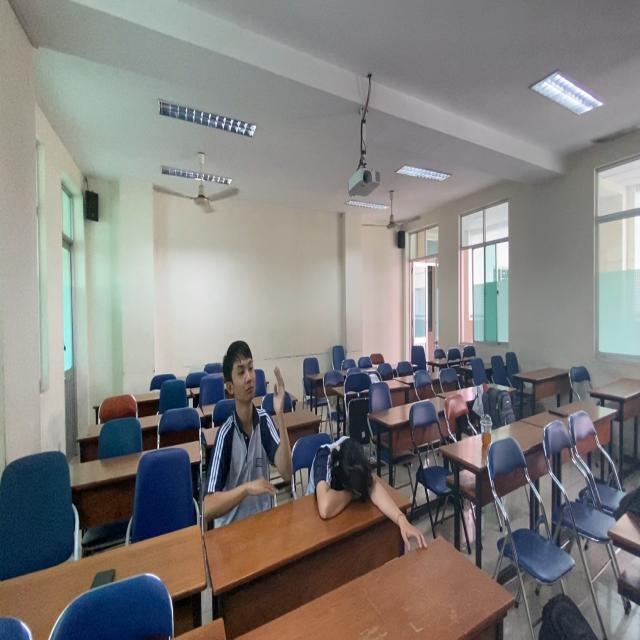raise_hand: (203, 341, 294, 507)
sleep: (303, 436, 414, 525)
